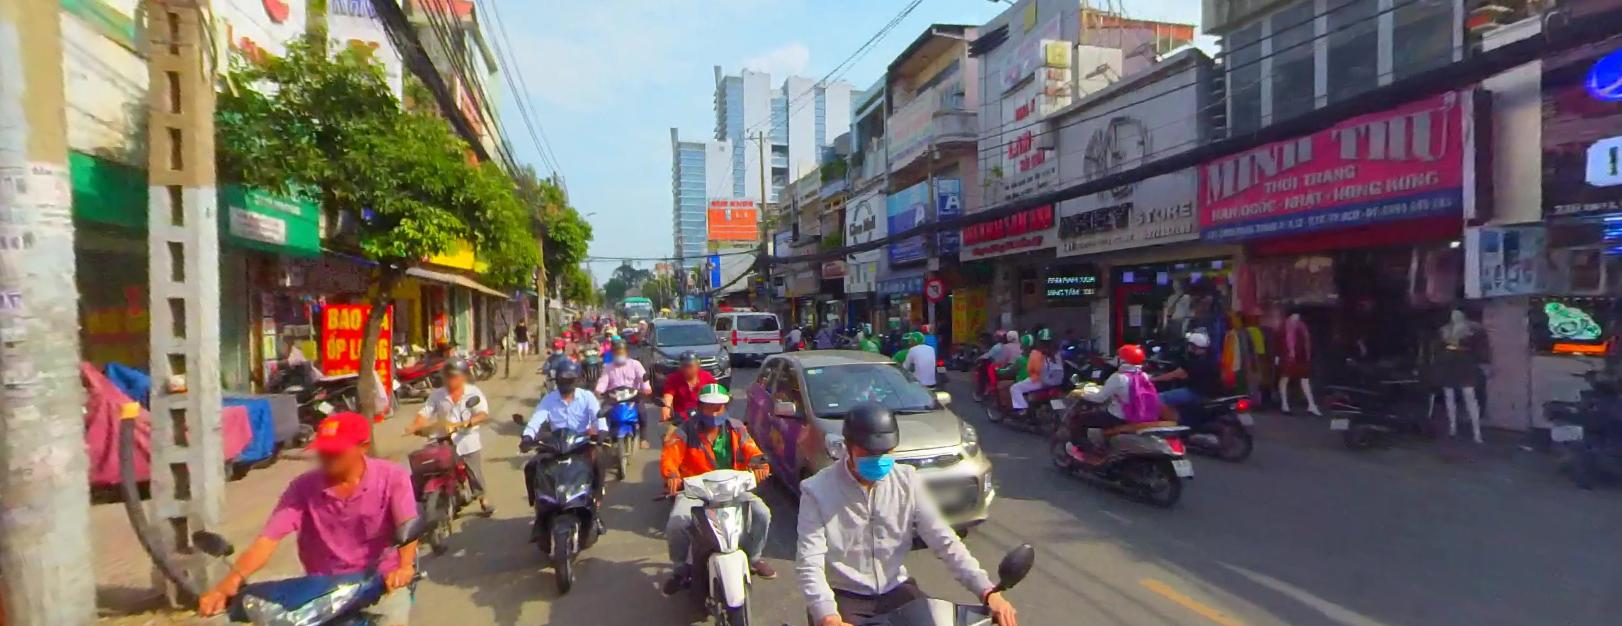Cam re: (923, 276, 945, 300)
